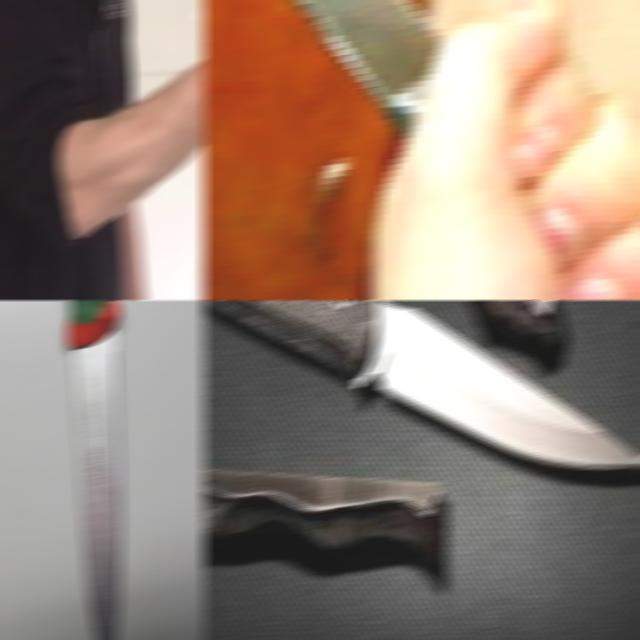Knife: (202, 300, 640, 468), (290, 0, 440, 142), (66, 300, 122, 640)
